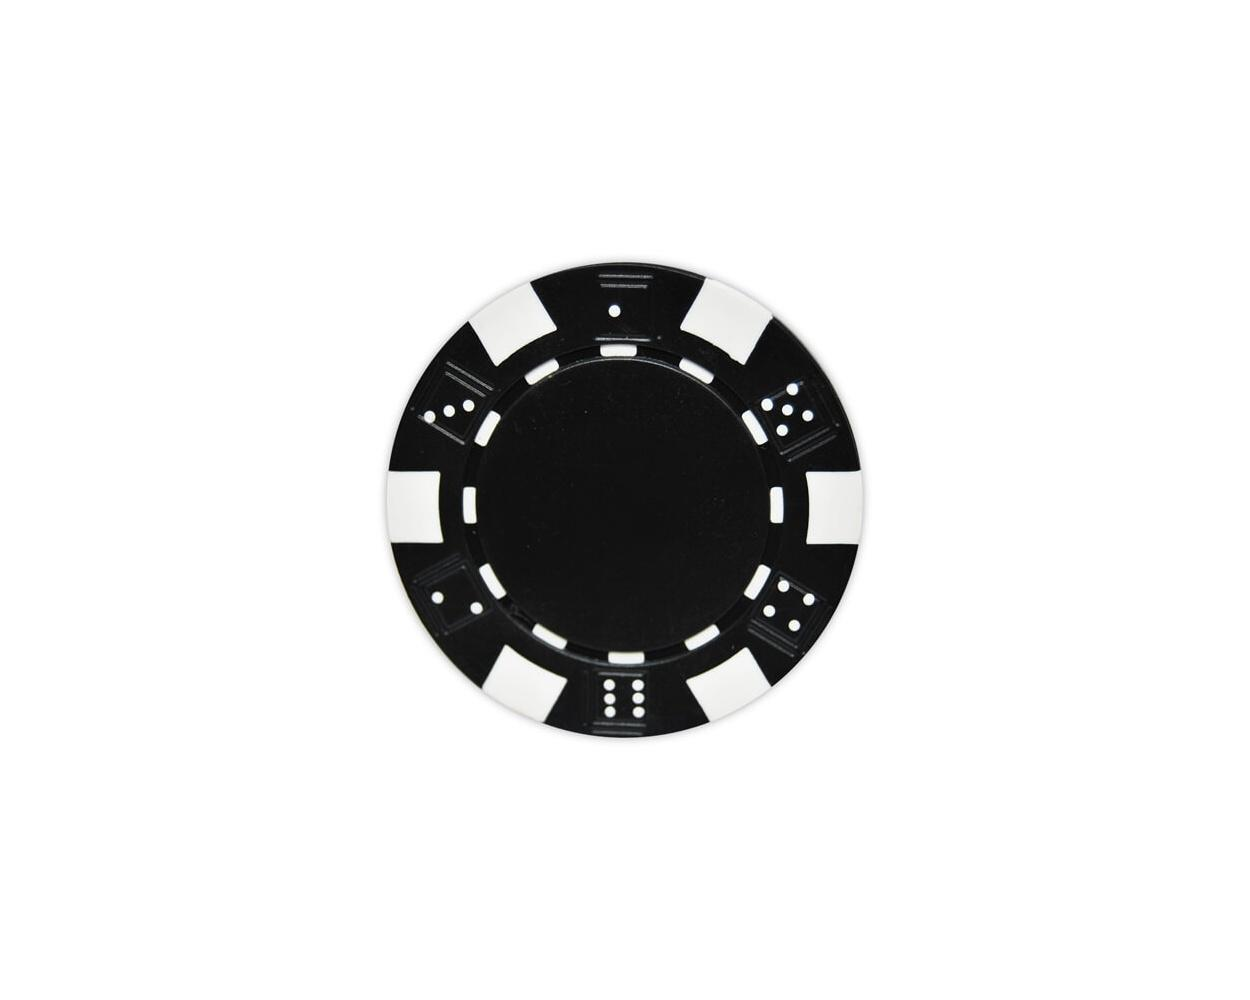chip-black: (386, 263, 864, 736)
